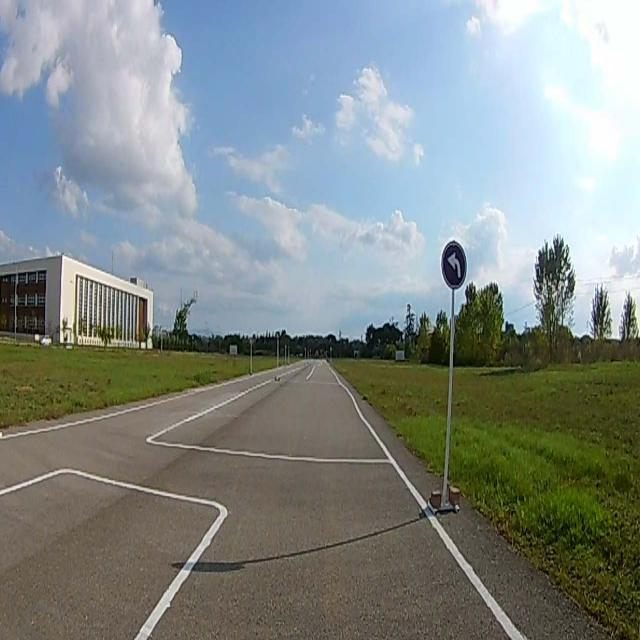sol: (443, 243, 466, 287)
